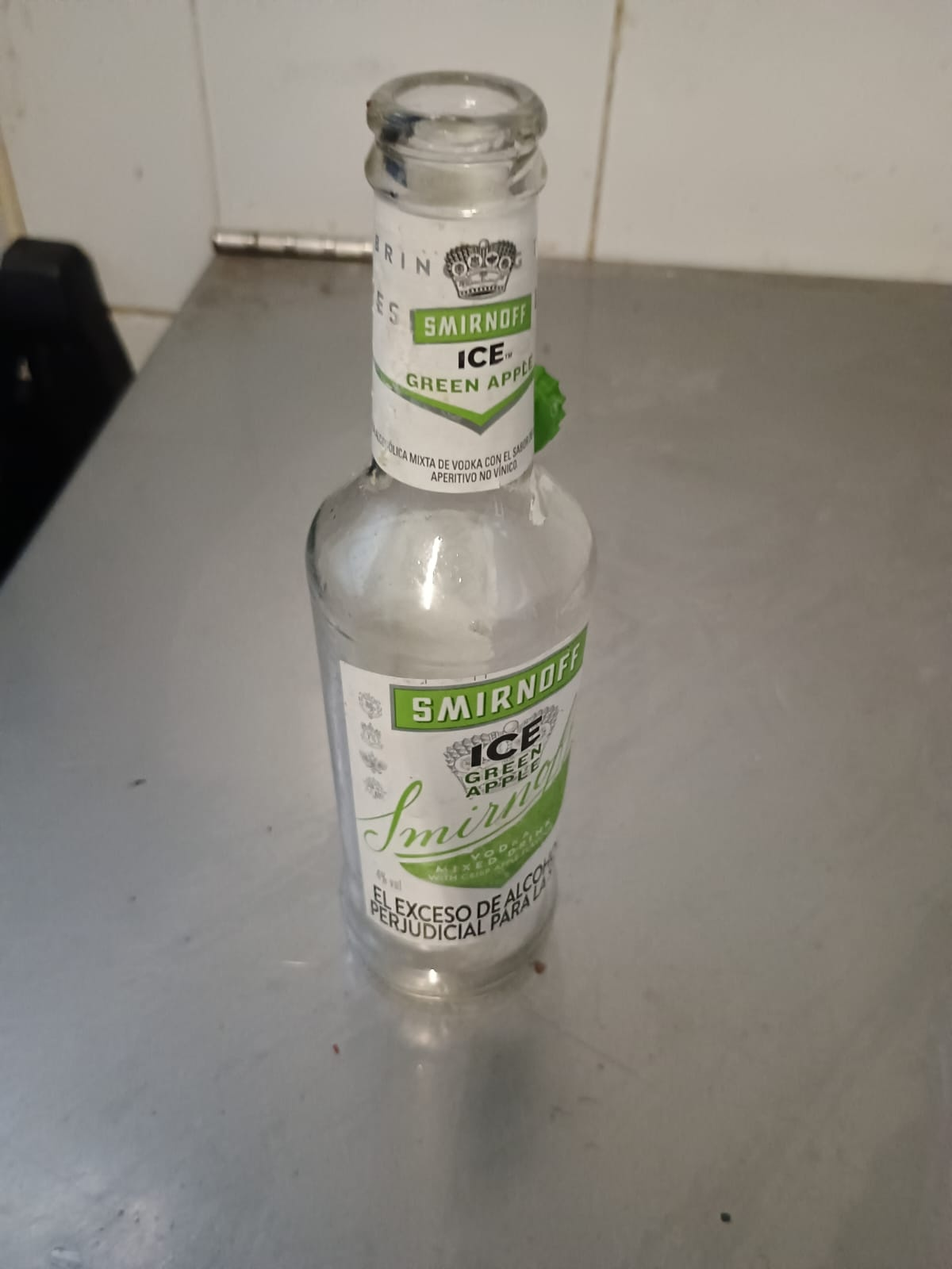Vidrio: (306, 67, 600, 1002)
